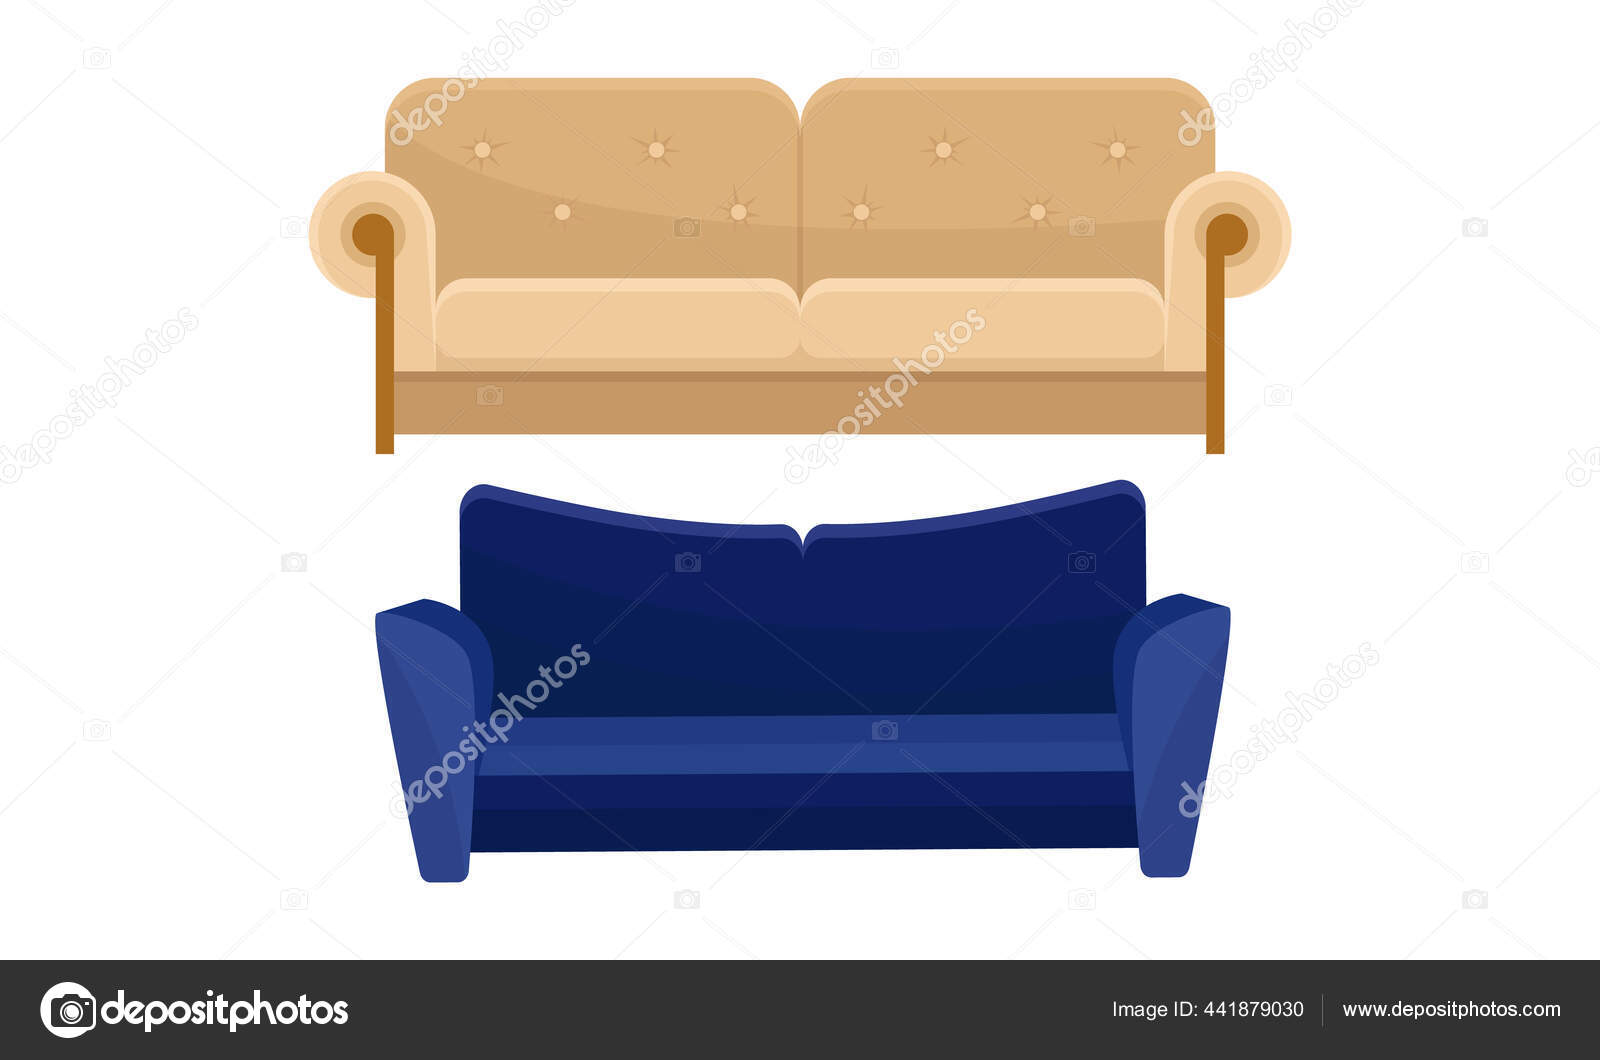sova: (232, 70, 1288, 491), (284, 492, 1340, 913)
